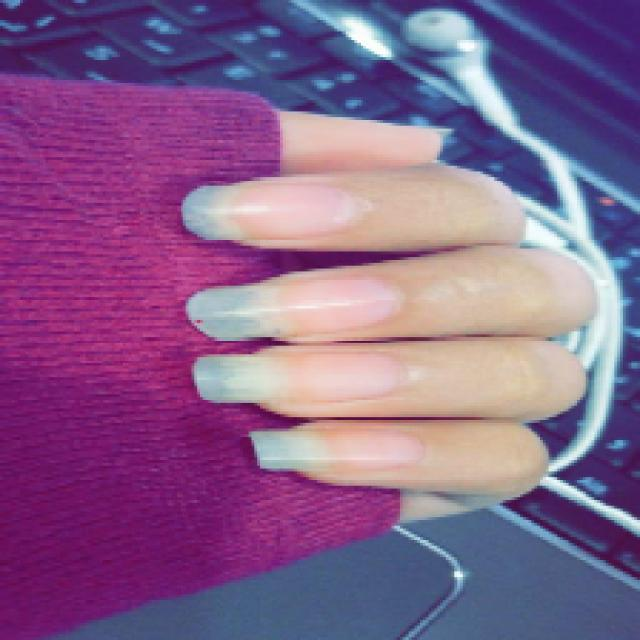Nail: (188, 278, 400, 336), (182, 184, 364, 243), (194, 352, 399, 404), (250, 429, 419, 471)
